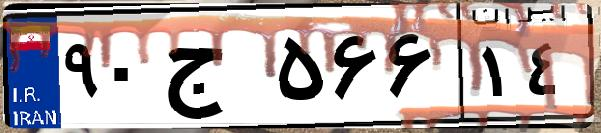0: (110, 28, 158, 98)
1: (475, 38, 525, 113)
4: (525, 38, 570, 115)
5: (270, 28, 330, 110)
6: (385, 28, 445, 110), (330, 28, 385, 110)
9: (57, 26, 110, 100)
ج: (158, 20, 270, 120)
